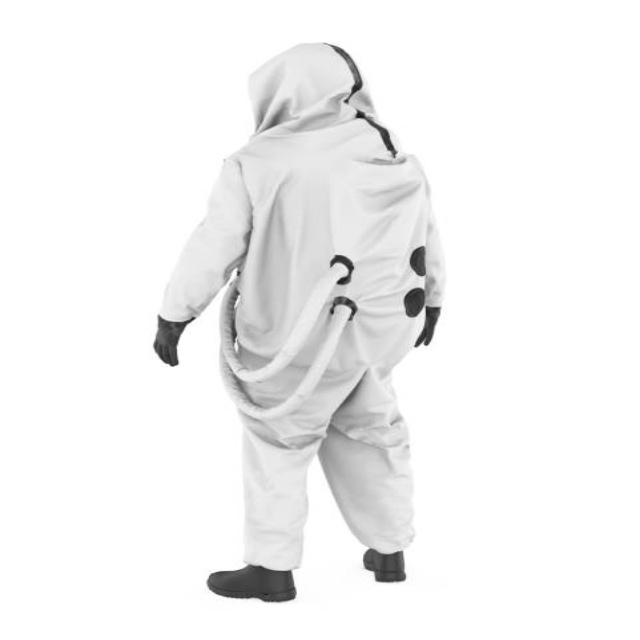Guantes: (153, 315, 192, 366), (414, 306, 440, 349)
